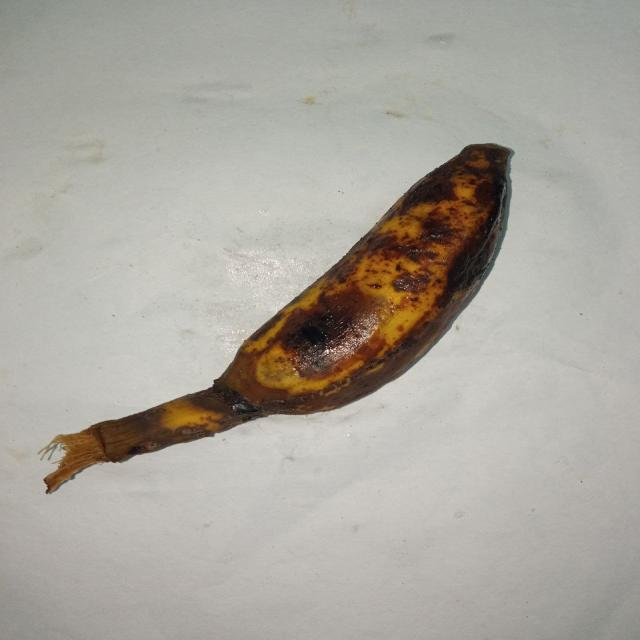rotten_banana: (97, 145, 510, 450)
